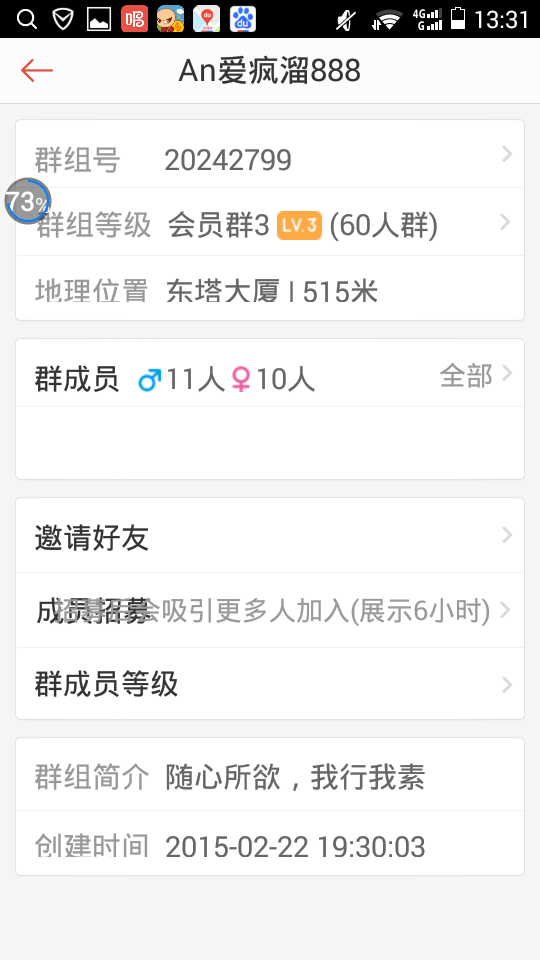textview: (27, 264, 443, 318)
